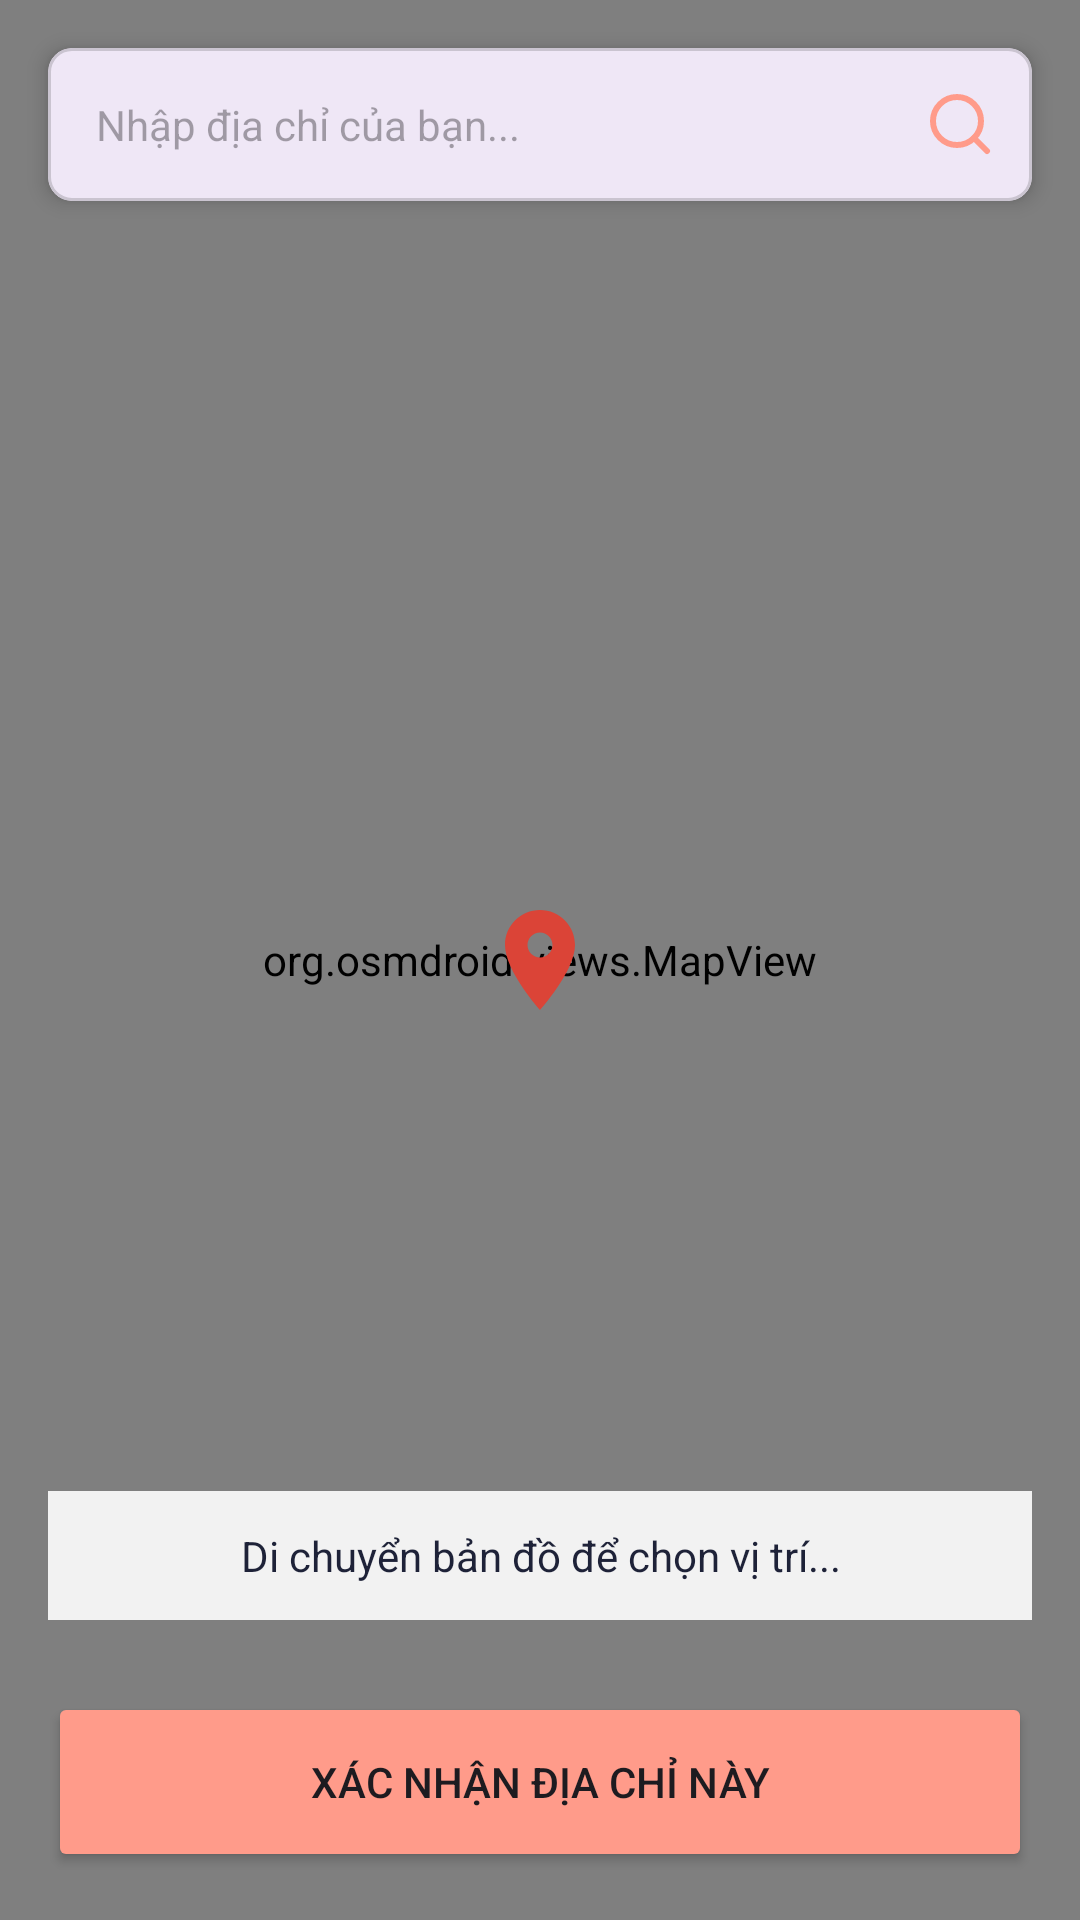

Screen size 1080 x 1920. Icon name, then its center in pixels as (x,y):
map pin: (529,960)
search: (960,124)
